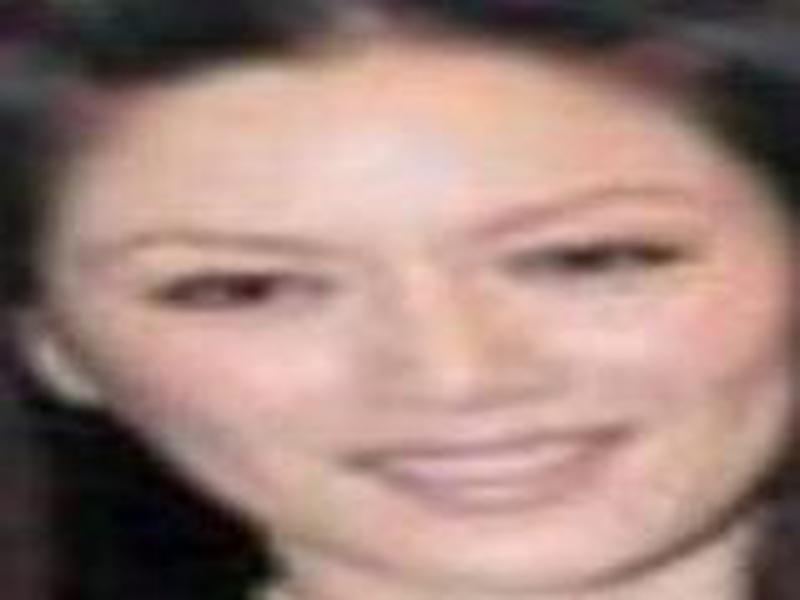without_mask: (34, 86, 795, 586)
